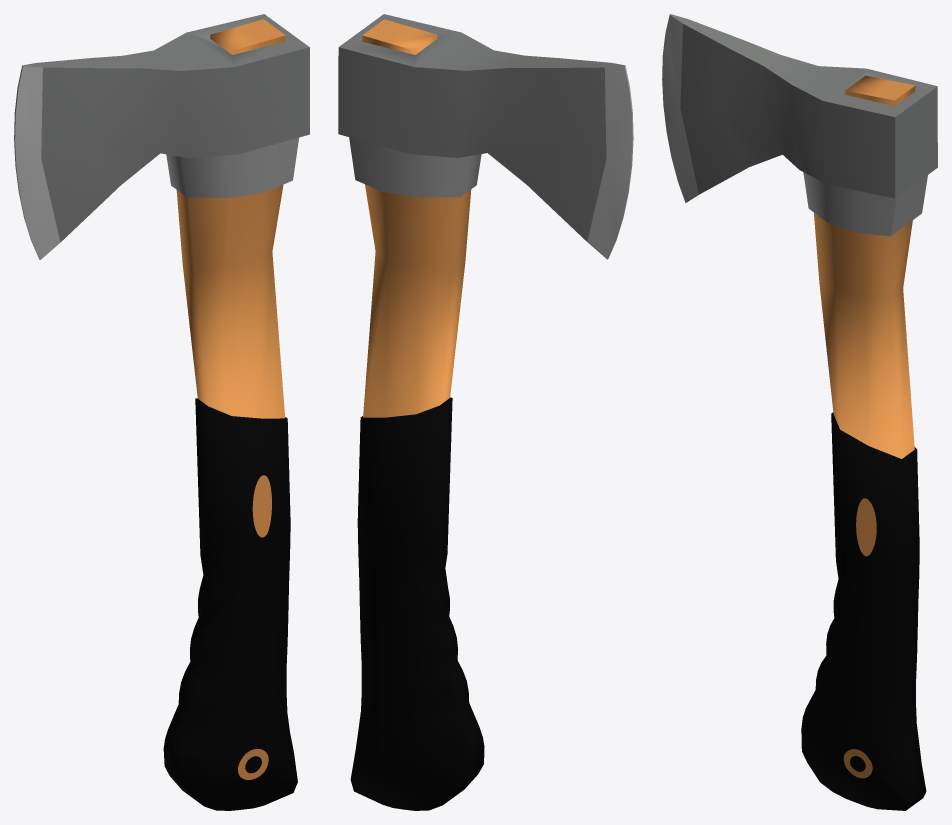
File: Kapak.fbx
3 views of the same model, side by side, from view 1: azimuth 30°, elevation 25°; view 2: azimuth 150°, elevation 25°; view 3: azimuth 330°, elevation 25° (orthographic). The views are drawn at different scales.
Parts seen in each view (by area): view 1: Axe, Cube.001, Circle, Circle.001; view 2: Axe, Cube.001; view 3: Axe, Cube.001, Circle.
Part boxes in pixels (x1,y1,x2,y2): Axe: [163, 19, 298, 810]; Cube.001: [14, 14, 309, 259]; Circle: [252, 475, 271, 537]; Circle.001: [238, 748, 268, 779]; Axe: [349, 19, 484, 810]; Cube.001: [338, 14, 633, 259]; Axe: [801, 75, 927, 810]; Cube.001: [662, 14, 937, 202]; Circle: [856, 498, 876, 556].
Size of the model in its own units: 170 by 467 by 50.79.
